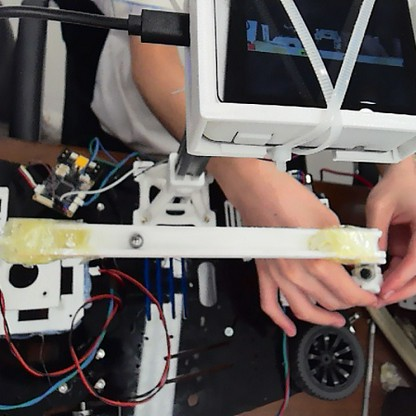ironball: (127, 229, 143, 249)
